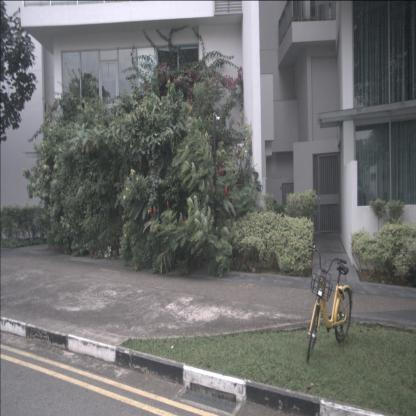vehicle-bicycle: (306, 242, 354, 364)
